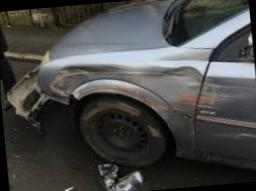Fender: (39, 59, 212, 114)
